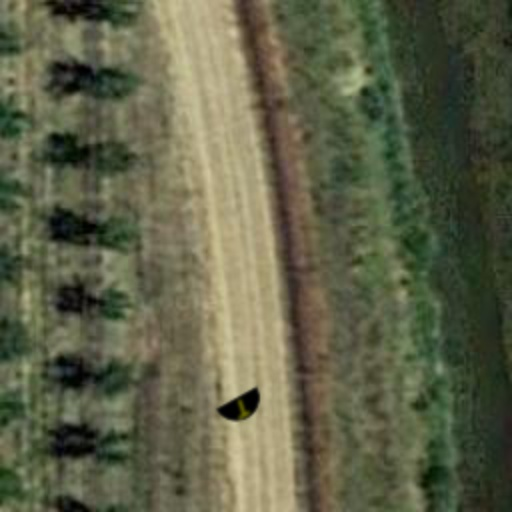semicircle: (210, 376, 274, 440)
